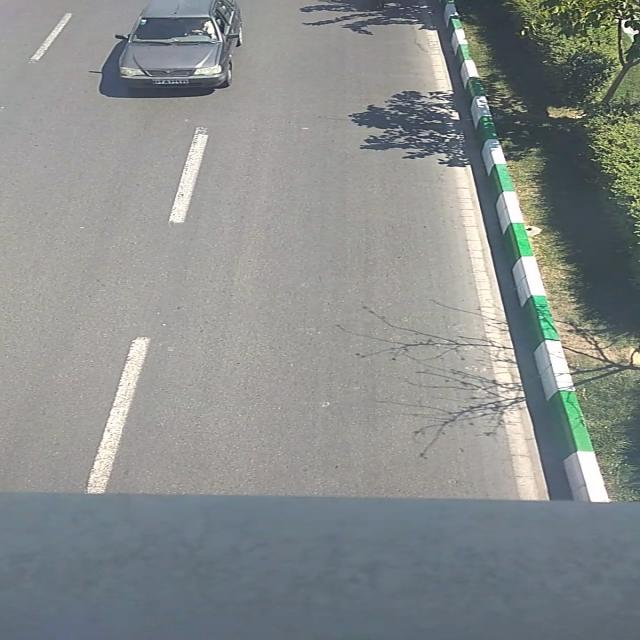car: (115, 0, 242, 88)
